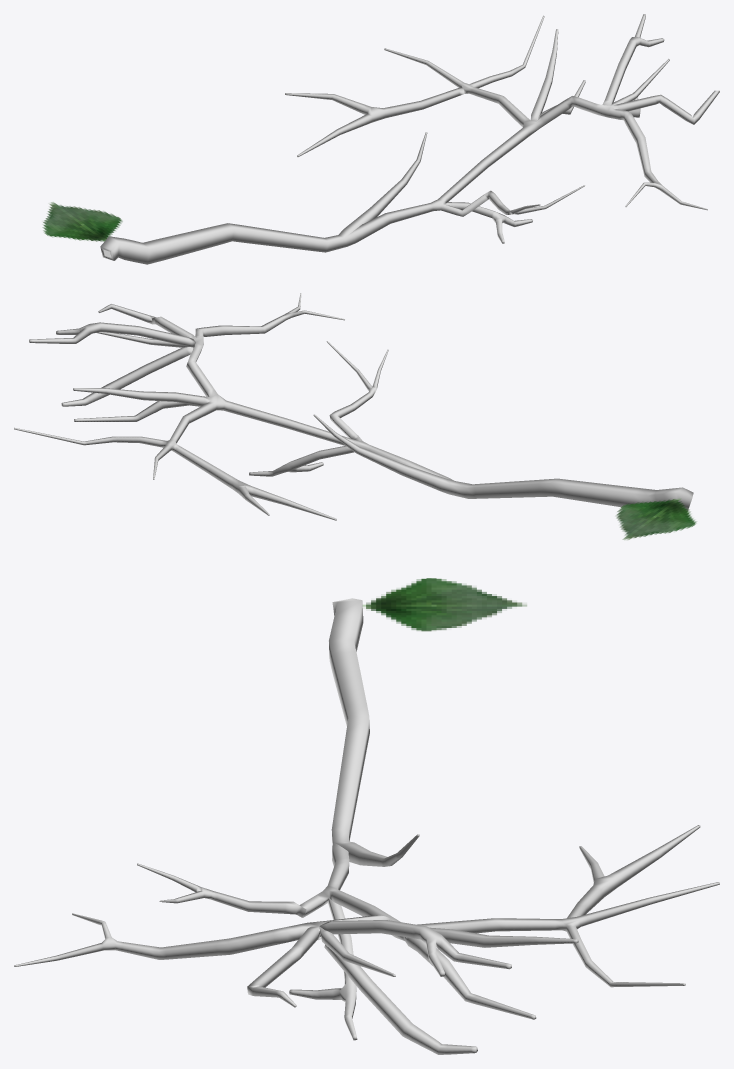
File: bush1.glb
3 renders of one model, top to bottom at view 1: azimuth 30°, elevation 25°; view 2: azimuth 150°, elevation 25°; view 3: azimuth 270°, elevation 25°, orthographic. The views are drawn at different scales.
Parts seen in each view (by area): view 1: Bush, Leaf; view 2: Bush, Leaf; view 3: Bush, Leaf.
Boxes of the visible parts, x1,y1,x2,y2 form: Bush: (100, 14, 719, 264); Leaf: (42, 202, 122, 241); Bush: (14, 293, 693, 520); Leaf: (616, 499, 696, 539); Bush: (14, 598, 719, 1054); Leaf: (363, 578, 526, 631).
Size of the model in its own units: 2.95 by 0.6045 by 1.9.
2 materials, 1 textured.
